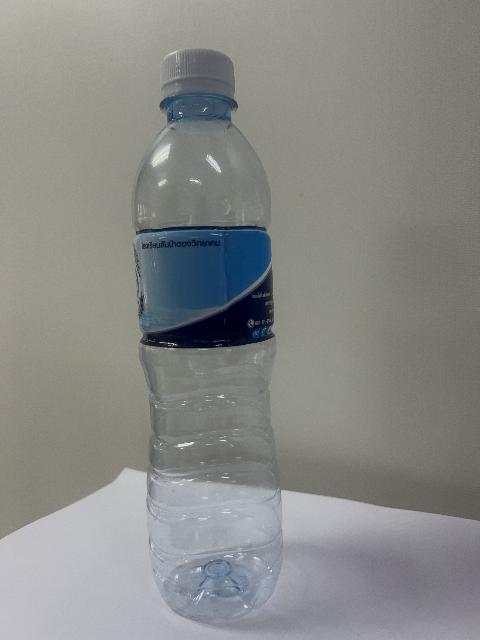bottle: (133, 49, 282, 621)
